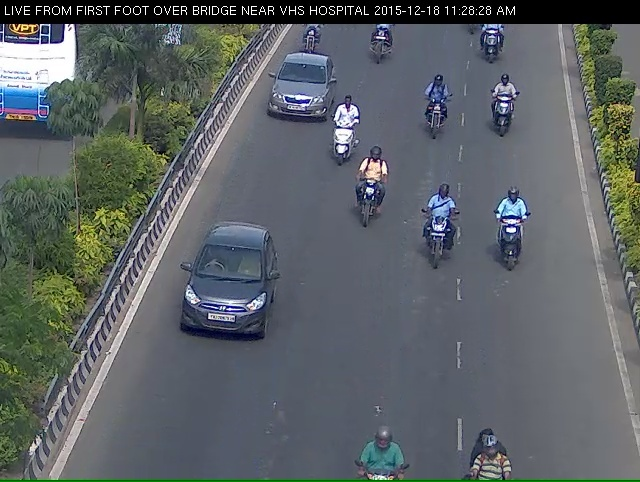Car: (168, 237, 279, 380), (258, 60, 329, 133)
Person: (350, 156, 389, 253), (422, 186, 455, 290), (496, 195, 529, 286), (487, 74, 525, 152), (420, 76, 451, 153), (319, 110, 351, 175), (476, 25, 508, 65)
